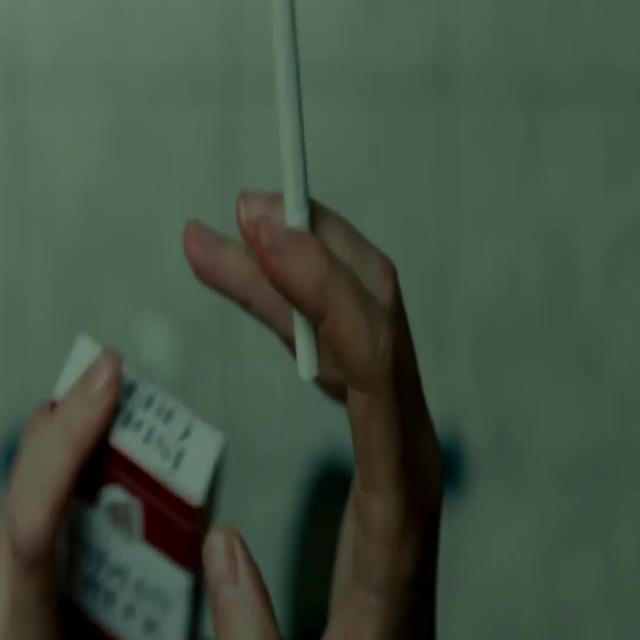Smooking: (262, 8, 334, 396)
